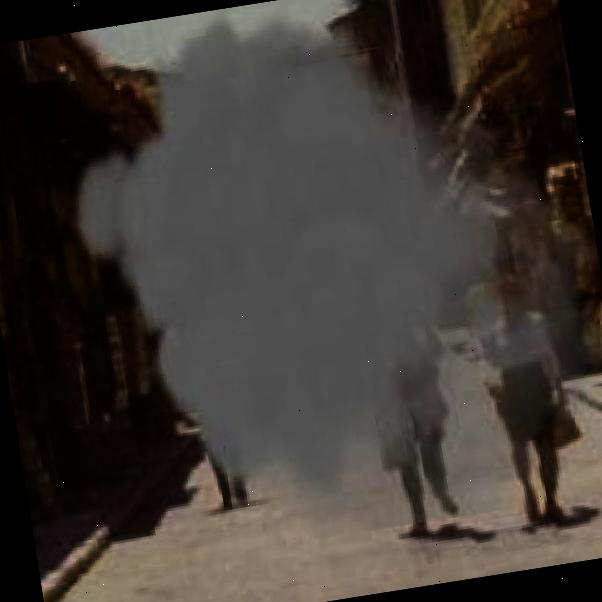smoke: (39, 0, 602, 570)
